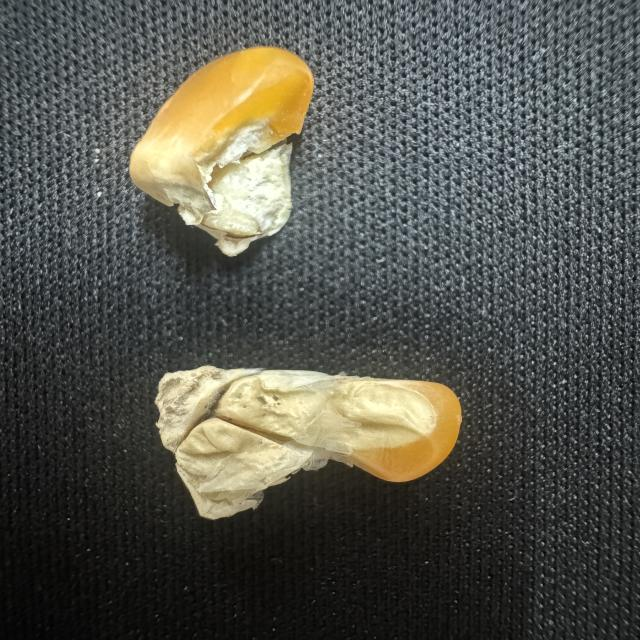Bad-Seed: (153, 361, 471, 525), (120, 41, 320, 263)
